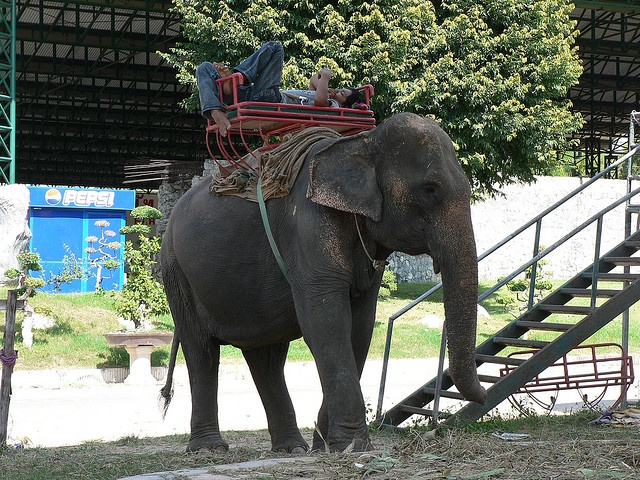elephant: (158, 108, 486, 456)
